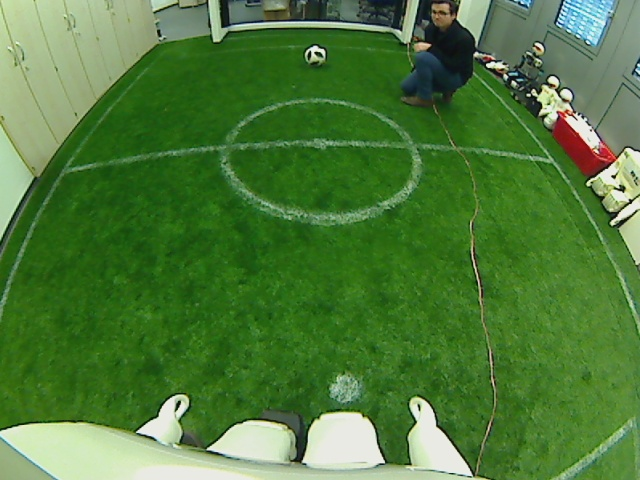ball: (303, 44, 328, 67)
